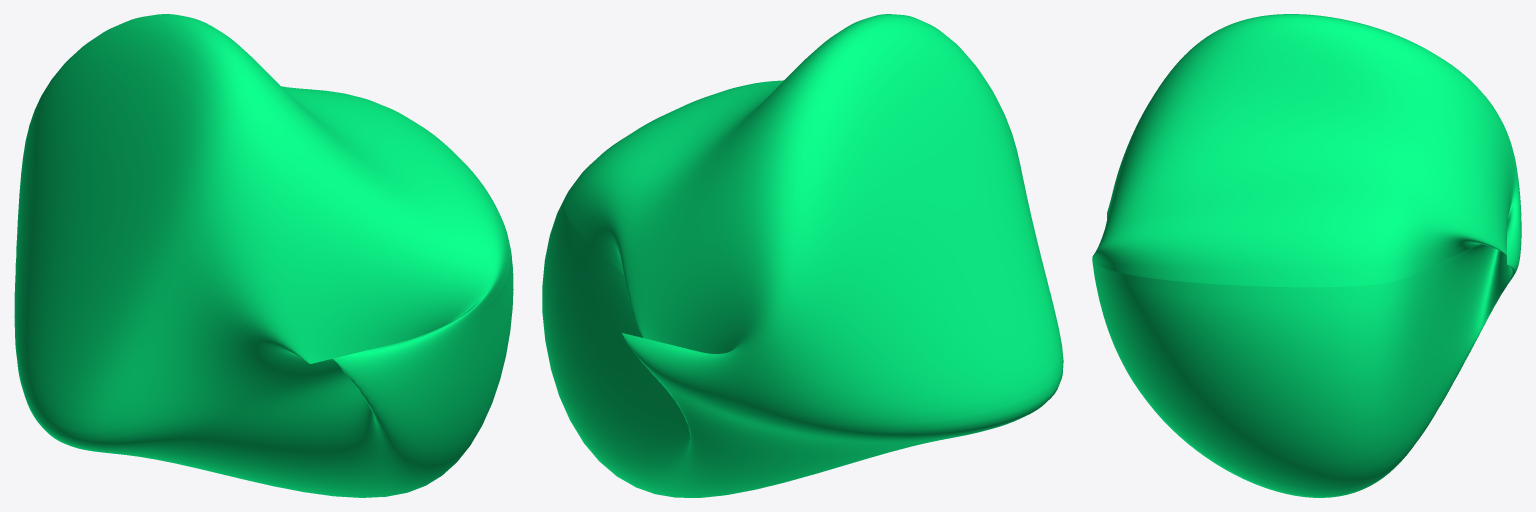
File: e7_lattice_ar_universal.glb
3 renders of one model, left to right at view 1: azimuth 30°, elevation 25°; view 2: azimuth 150°, elevation 25°; view 3: azimuth 270°, elevation 25°, orthographic. The views are drawn at different scales.
Visible parts, largest first — view 1: e7_lattice_ar; view 2: e7_lattice_ar; view 3: e7_lattice_ar.
Boxes of the visible parts, x1=… form: e7_lattice_ar: x1=14, y1=14, x2=513, y2=497; e7_lattice_ar: x1=542, y1=14, x2=1063, y2=497; e7_lattice_ar: x1=1092, y1=14, x2=1521, y2=497.
Bounding box in the file's own units: 0.9916 × 1 × 0.9639.
